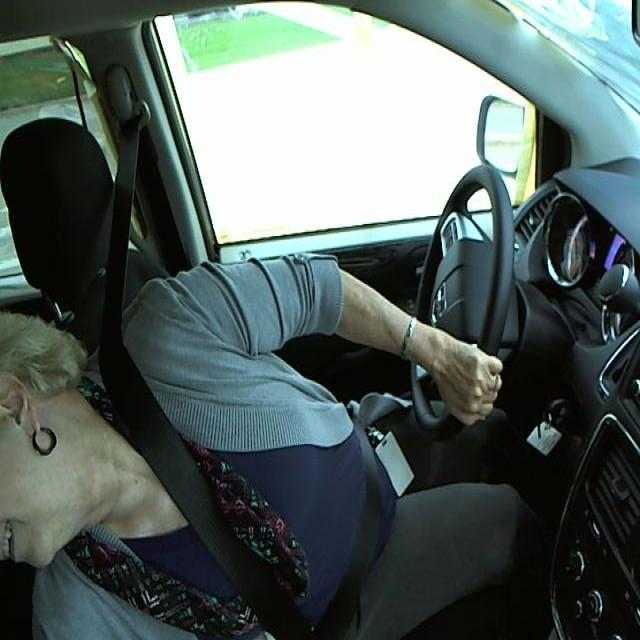seatbelt: (97, 276, 317, 639)
